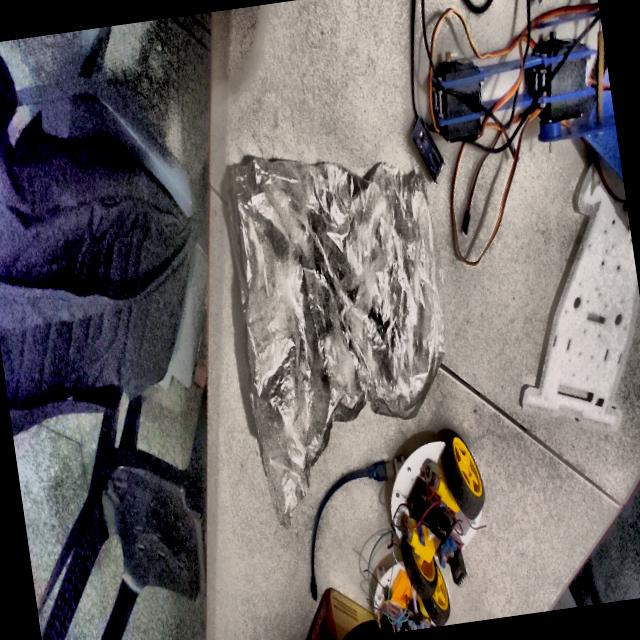plastic bag: (226, 158, 444, 525)
